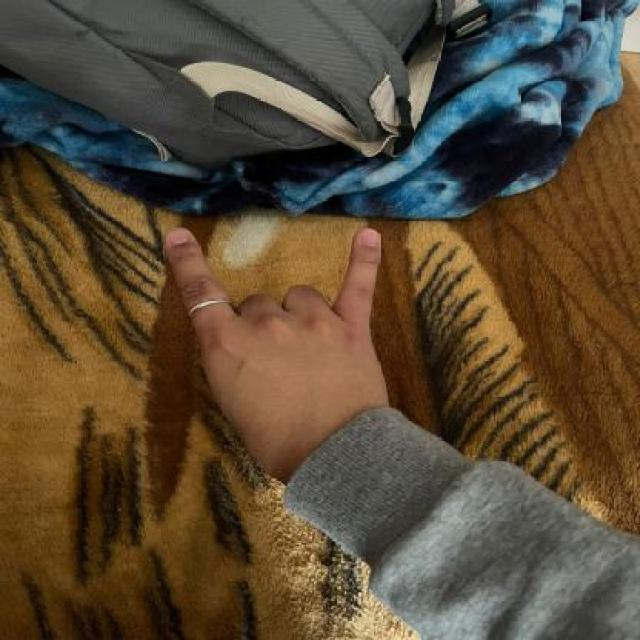U: (149, 214, 402, 455)
